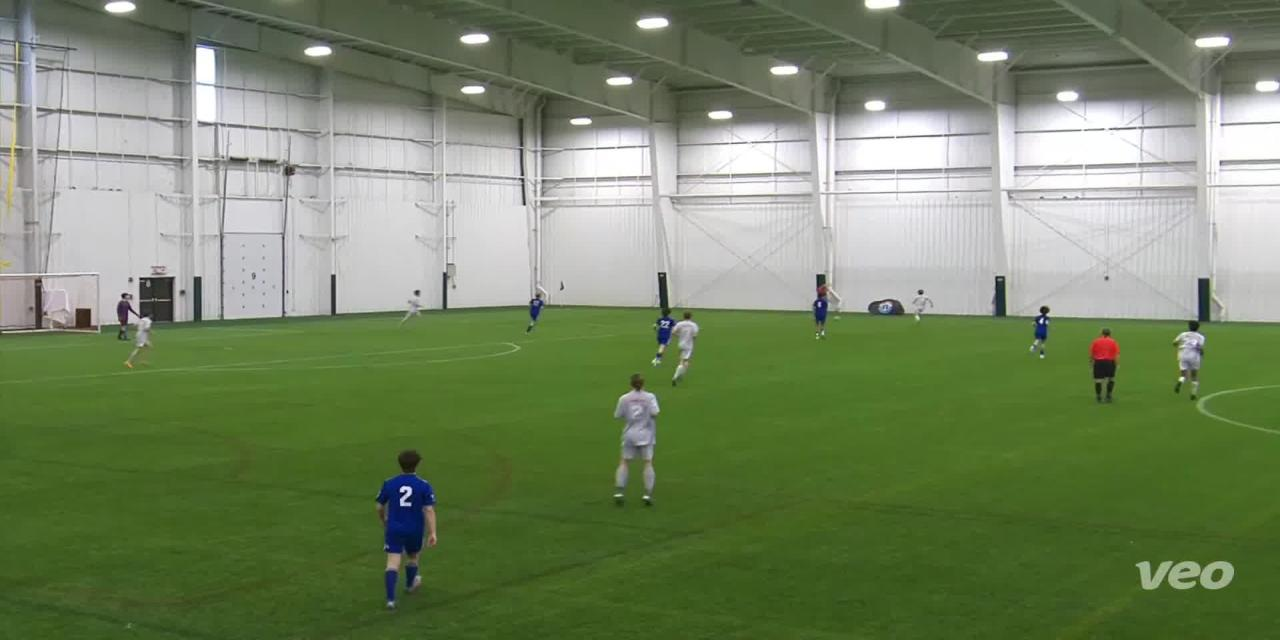goal: (0, 268, 108, 339)
sports ball: (828, 307, 844, 325)
